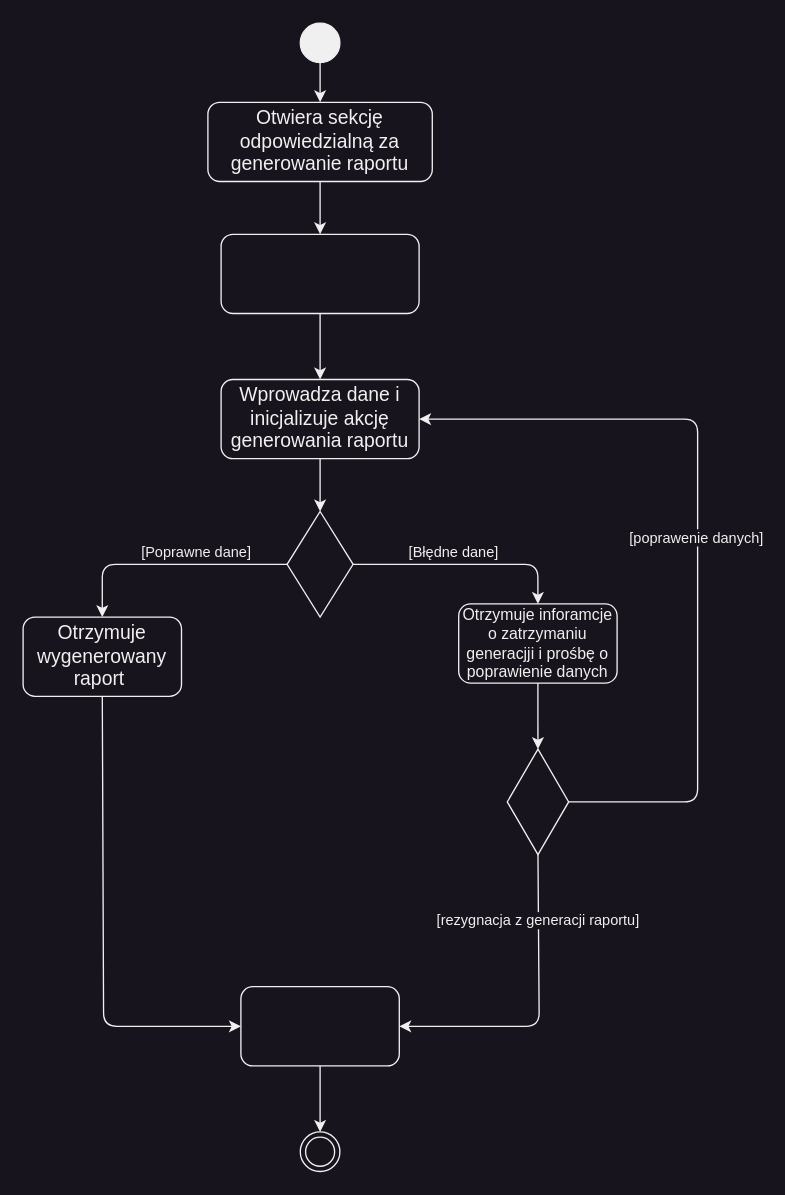
Some shapes in this 785 by 1195 pixel diagram are drawn without their labels. The centre of each missing label's shape, as x and y in pixels:
"Przechodzi do sekcji generacji raportów" goes at pixel 319 1025.
"Wybiera odpowiedni raport" goes at pixel 319 273.
